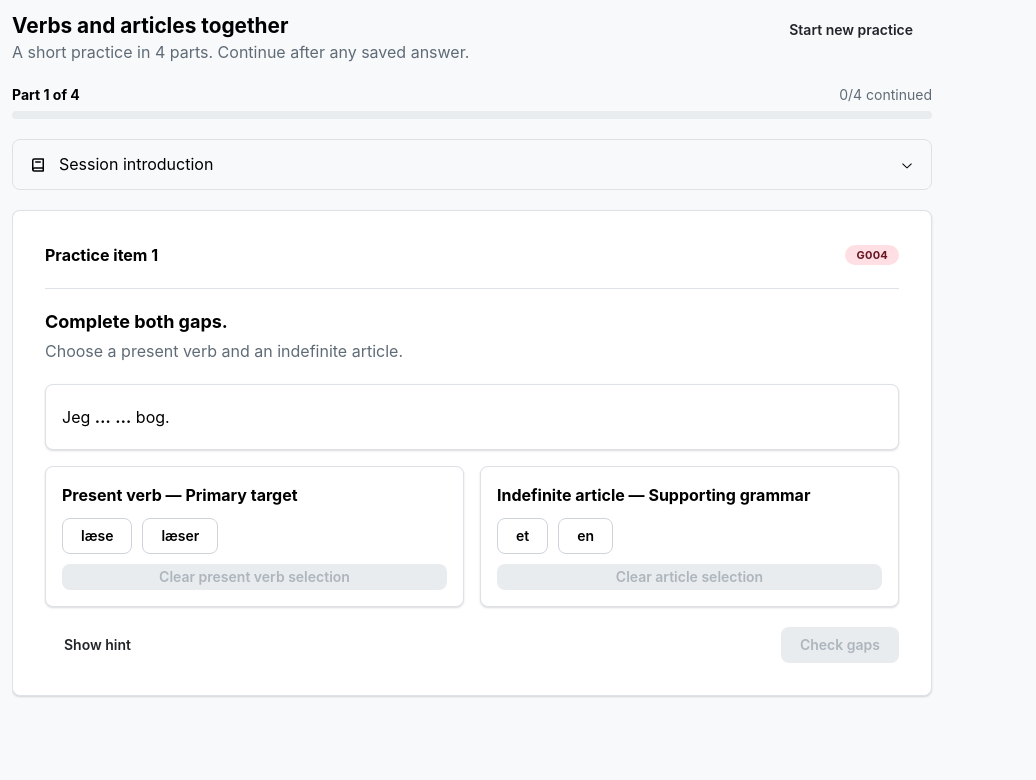
Test: restores authoritative state when support readback includes a next item
Click the button "læser".
click(180, 536)  # box [142,518,218,554]
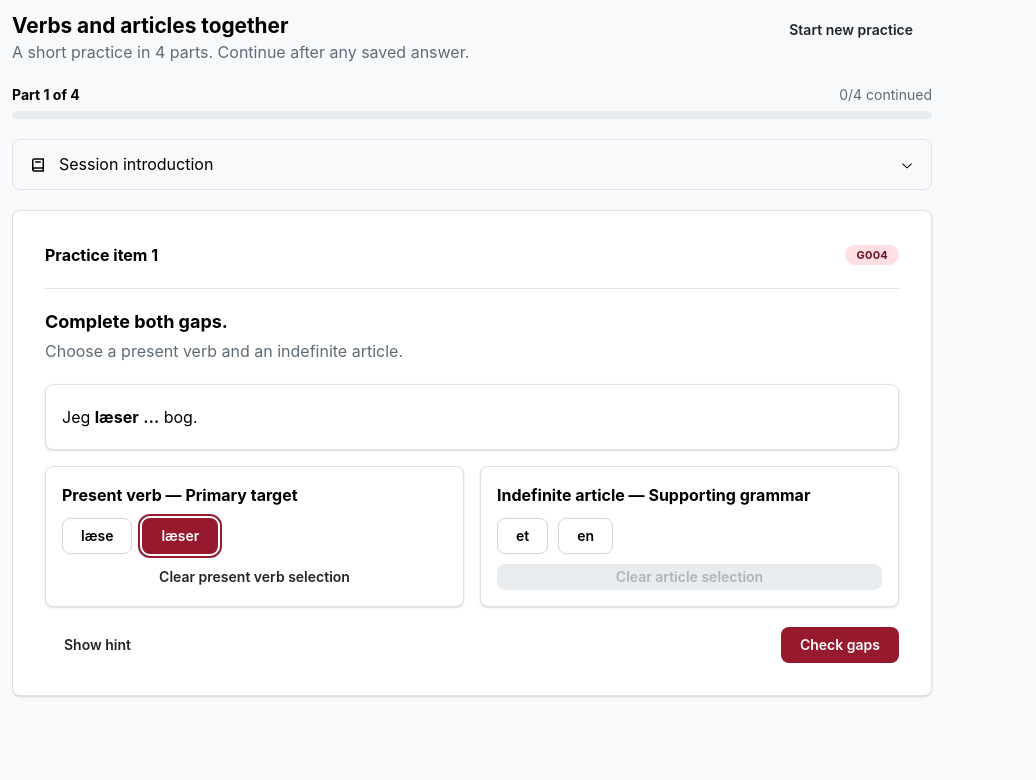
Click the button "Session introduction".
click(136, 164)  # box [13,140,931,189]
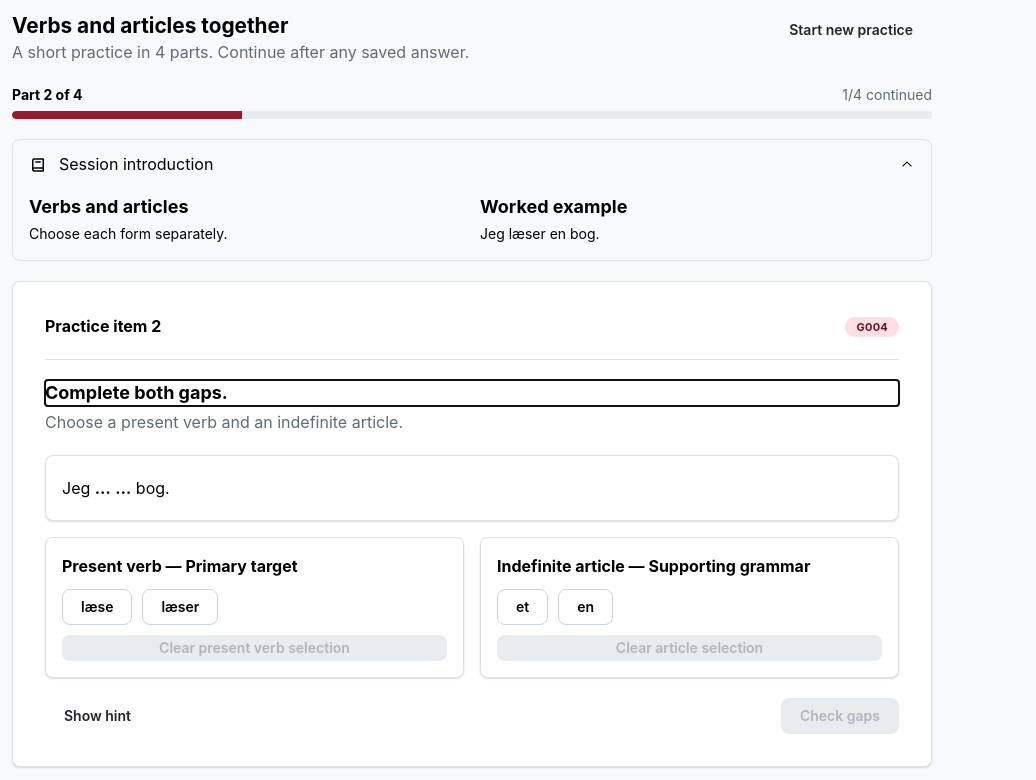
Expected: the text "Choose each form separately." is shown, [29,225,228,242]
Expected: the text "Part 2 of 4" is shown, [12,85,82,105]
Expected: the button "Check gaps" is disabled, [781,698,899,734]
